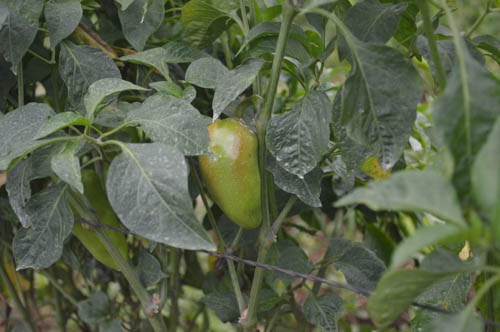ChiliPepper: (198, 119, 261, 230), (58, 175, 129, 268)
